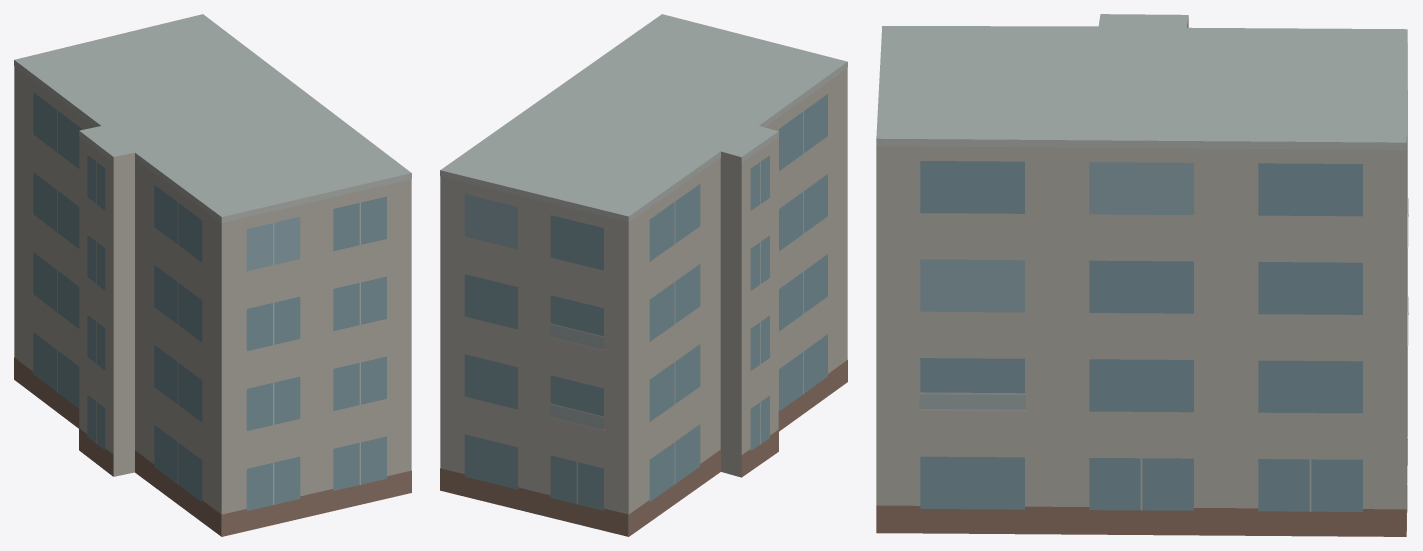
The model's file is survey-upis-33002466.glb.
3 views of the same model, side by side, from view 1: azimuth 30°, elevation 25°; view 2: azimuth 150°, elevation 25°; view 3: azimuth 270°, elevation 25° (orthographic). The views are drawn at different scales.
Visible parts, largest first — view 1: survey-upis-33002466.tmp; view 2: survey-upis-33002466.tmp; view 3: survey-upis-33002466.tmp.
Boxes of the visible parts, x1,y1,x2,y2 form: survey-upis-33002466.tmp: [14, 14, 411, 536]; survey-upis-33002466.tmp: [440, 14, 847, 536]; survey-upis-33002466.tmp: [876, 14, 1408, 536].
Bounding box in the file's own units: 9.08 × 12.97 × 15.88.
